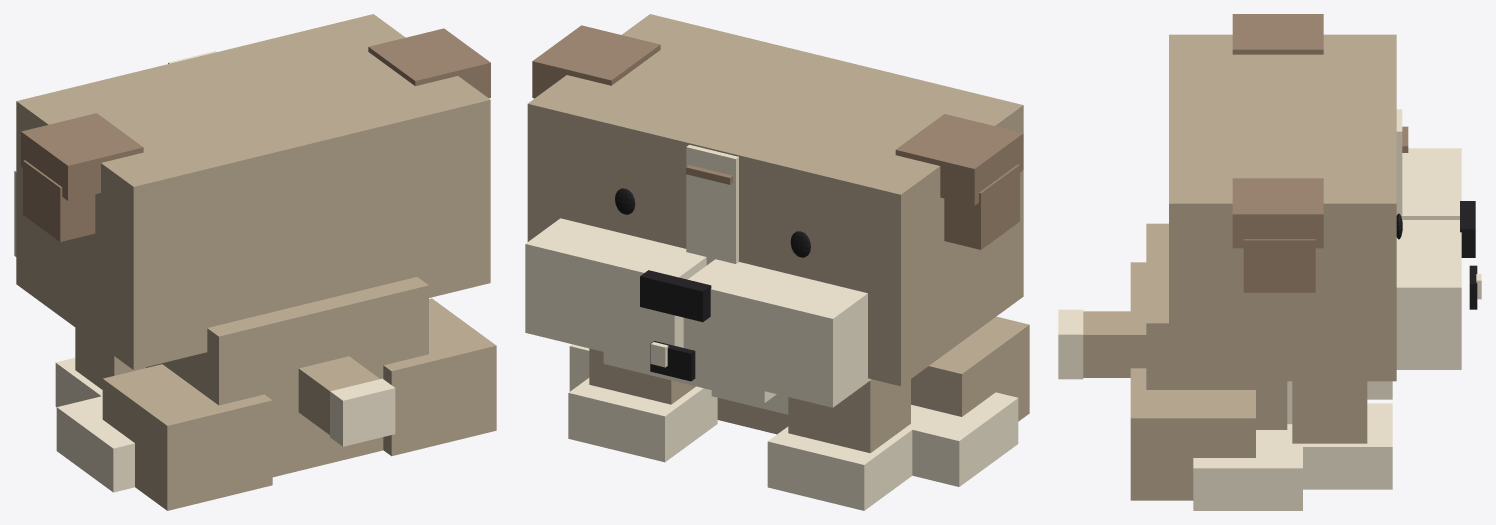
The model's file is Bulldog_Block.gltf.
The picture shows the model from 3 angles, left to right: view 1: azimuth 30°, elevation 25°; view 2: azimuth 150°, elevation 25°; view 3: azimuth 270°, elevation 25°; orthographic projection. The views are drawn at different scales.
Parts seen in each view (by area): view 1: BigHead, ShortTorso, LegBL_Leg, LegBR_Leg, EarL_Fold, LegBL_Paw, EarR_Fold, TailTip, EarL_Drop, TailStub, LegFL_Leg, LegFL_Paw; view 2: BigHead, PuffedCheekL, PuffedCheekR, LegFL_Paw, LegFR_Paw, LegBL_Leg, LegBL_Paw, EarL_Fold, LegFL_Leg, WhiteBlaze, EarR_Fold, EarL_Drop (+7 smaller); view 3: BigHead, LegBR_Leg, PuffedCheekR, LegBR_Paw, ShortTorso, EarR_Fold, LegFR_Paw, LegFR_Leg, PuffedCheekL, TailStub, EarR_Drop, EarL_Fold (+5 smaller).
Boxes of the visible parts, <box> form: BigHead: <box>16,14,490,369</box>; ShortTorso: <box>146,277,428,477</box>; LegBL_Leg: <box>102,364,272,510</box>; LegBR_Leg: <box>383,298,496,456</box>; EarL_Fold: <box>21,113,143,200</box>; LegBL_Paw: <box>56,396,134,492</box>; EarR_Fold: <box>368,28,490,98</box>; TailTip: <box>330,378,395,446</box>; EarL_Drop: <box>23,160,95,241</box>; TailStub: <box>298,356,379,434</box>; LegFL_Leg: <box>75,328,145,389</box>; LegFL_Paw: <box>55,358,102,407</box>; BigHead: <box>527,14,1023,386</box>; PuffedCheekL: <box>683,259,871,407</box>; PuffedCheekR: <box>525,218,706,362</box>; LegFL_Paw: <box>767,425,915,510</box>; LegFR_Paw: <box>568,378,717,462</box>; LegBL_Leg: <box>911,316,1029,421</box>; LegBL_Paw: <box>909,392,1018,486</box>; EarL_Fold: <box>895,114,1023,205</box>; LegFL_Leg: <box>788,379,910,453</box>; WhiteBlaze: <box>686,145,738,265</box>; EarR_Fold: <box>532,25,660,98</box>; EarL_Drop: <box>944,164,1019,249</box>; BigHead: <box>1169,34,1396,381</box>; LegBR_Leg: <box>1130,368,1255,500</box>; PuffedCheekR: <box>1396,220,1461,369</box>; LegBR_Paw: <box>1193,424,1302,510</box>; ShortTorso: <box>1146,223,1287,429</box>; EarR_Fold: <box>1232,178,1323,248</box>; LegFR_Paw: <box>1295,403,1392,489</box>; LegFR_Leg: <box>1292,381,1367,443</box>; PuffedCheekL: <box>1402,148,1461,219</box>; TailStub: <box>1083,311,1146,377</box>; EarR_Drop: <box>1243,239,1315,292</box>; EarL_Fold: <box>1232,14,1323,54</box>.
Size of the model in its own units: 3.05 by 2.17 by 2.7.
